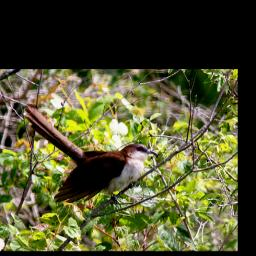Cuckoo: (53, 102, 160, 208)
